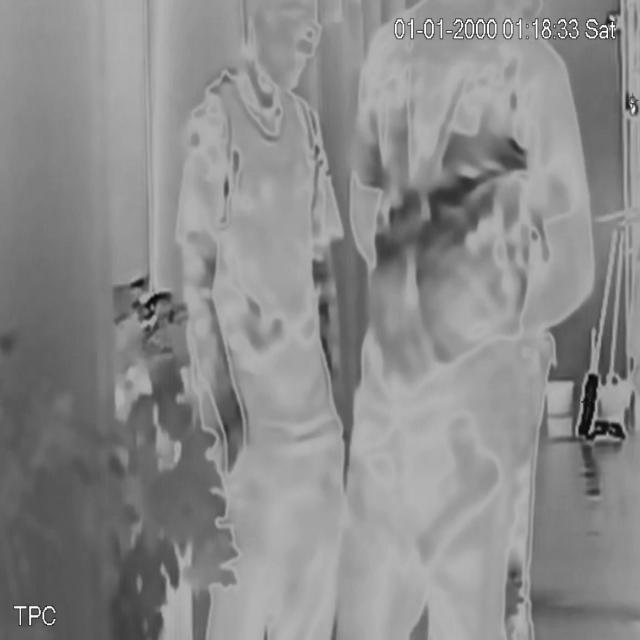Weapon: (416, 413, 507, 566)
